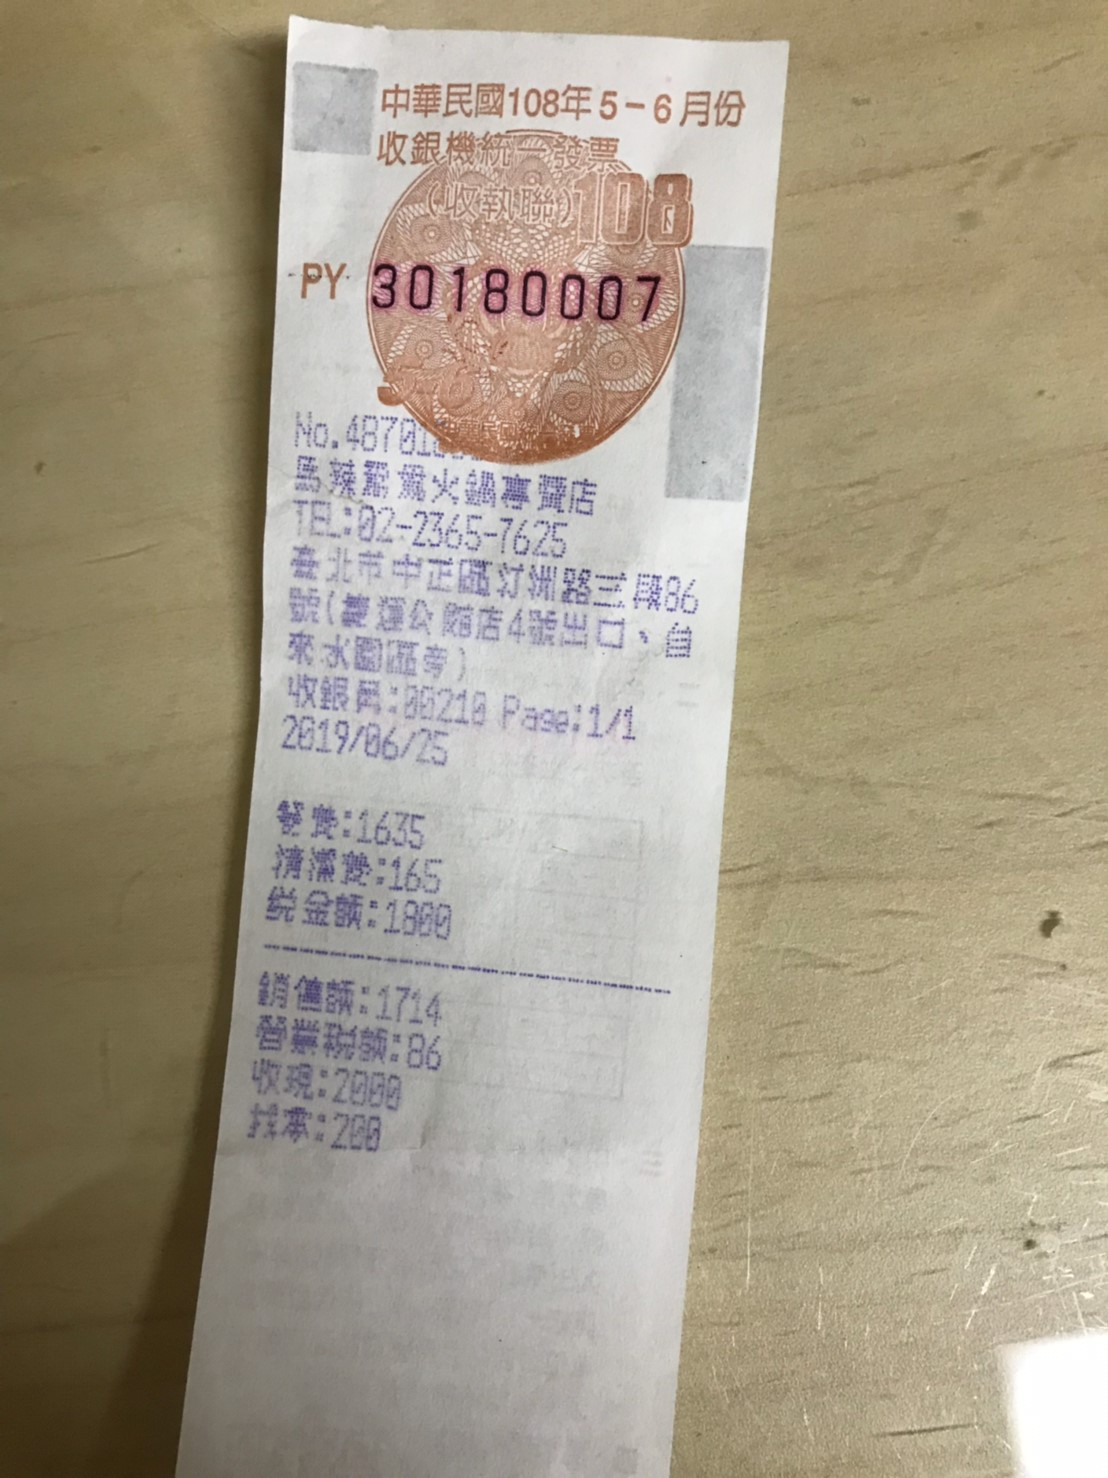Date_Old: (504, 80, 748, 132)
Number_Old: (369, 253, 666, 324)
